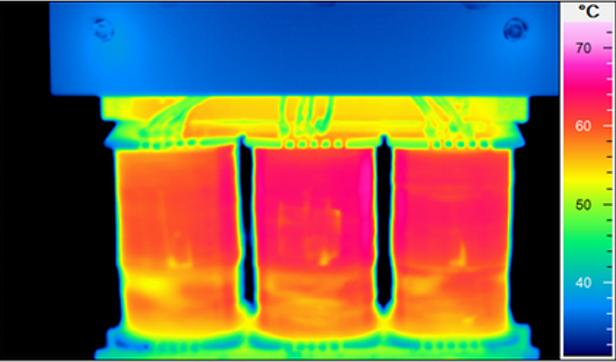Loose Joint -Faulty: (104, 97, 513, 342)
